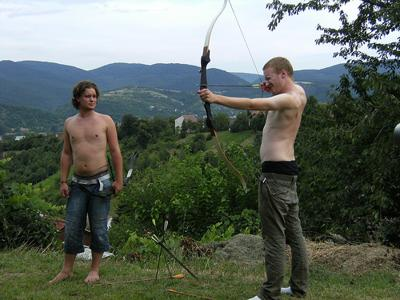person: (198, 56, 310, 300)
